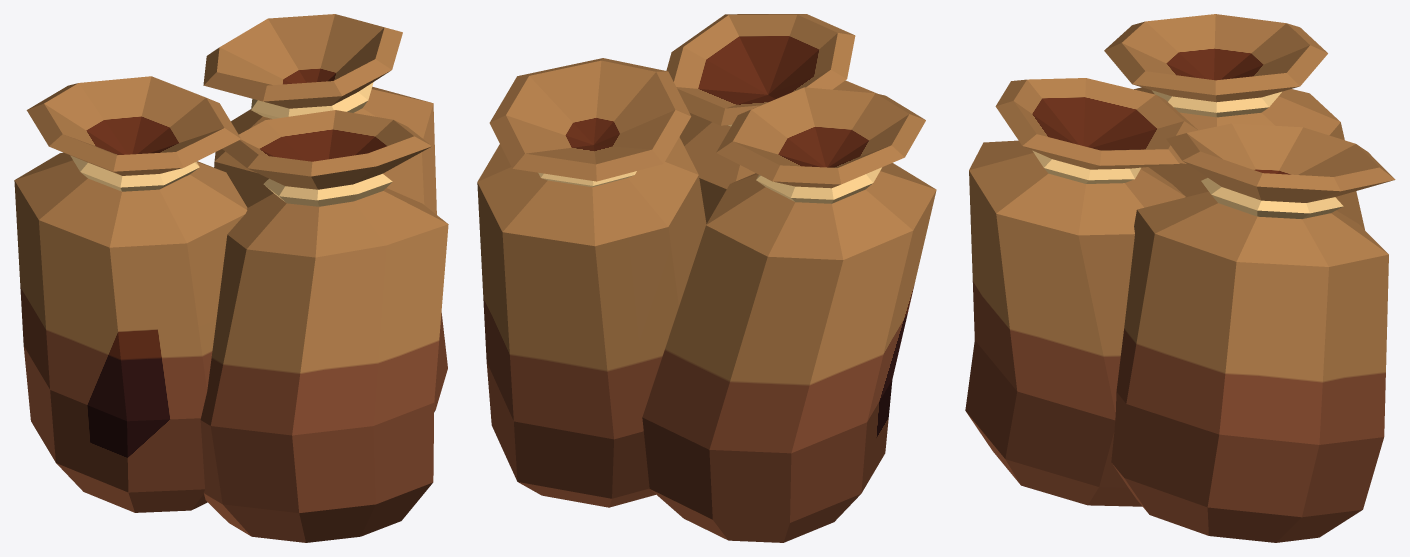
File: CajaPequeña2.FBX
3 views of the same model, side by side, from view 1: azimuth 30°, elevation 25°; view 2: azimuth 150°, elevation 25°; view 3: azimuth 270°, elevation 25° (orthographic). The views are drawn at different scales.
Parts seen in each view (by area): view 1: sacos; view 2: sacos; view 3: sacos.
Boxes of the visible parts, x1,y1,x2,y2 form: sacos: [14, 14, 448, 542]; sacos: [477, 14, 936, 542]; sacos: [965, 14, 1395, 542].
Size of the model in its own units: 107 by 102 by 103.
1 material, 1 textured.
